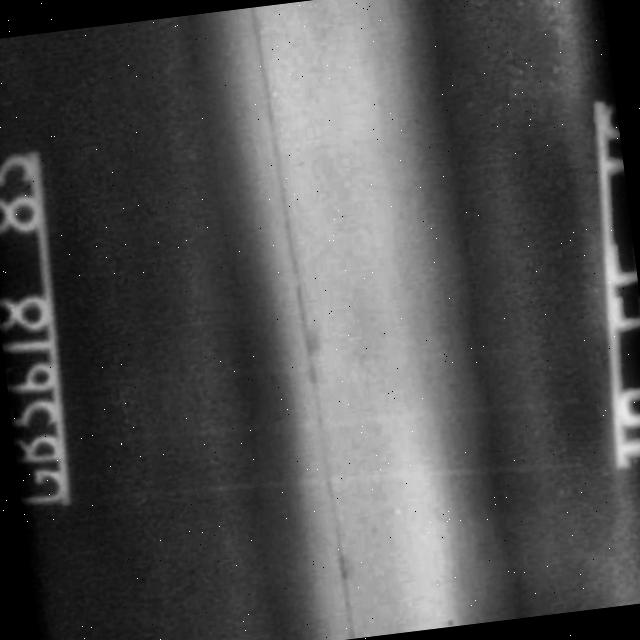LoP-LoF: (228, 7, 380, 640)
